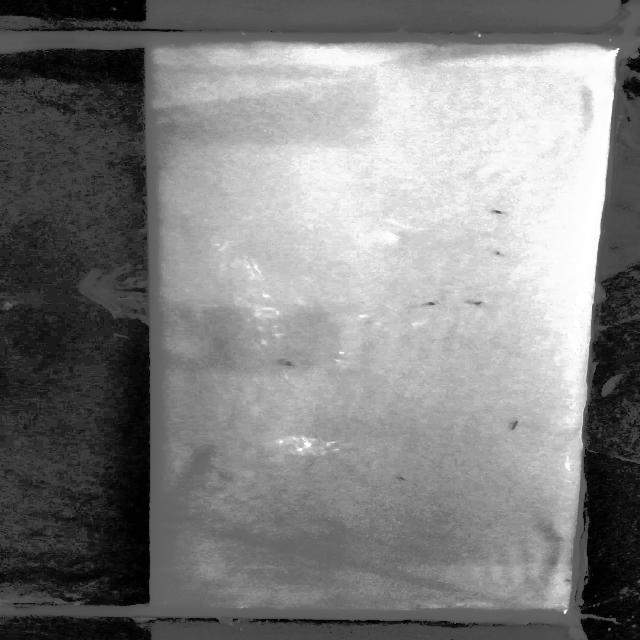shrimp: (272, 358, 312, 370), (464, 297, 494, 311), (503, 416, 522, 431), (488, 204, 508, 218), (418, 298, 438, 310), (392, 474, 410, 484)
